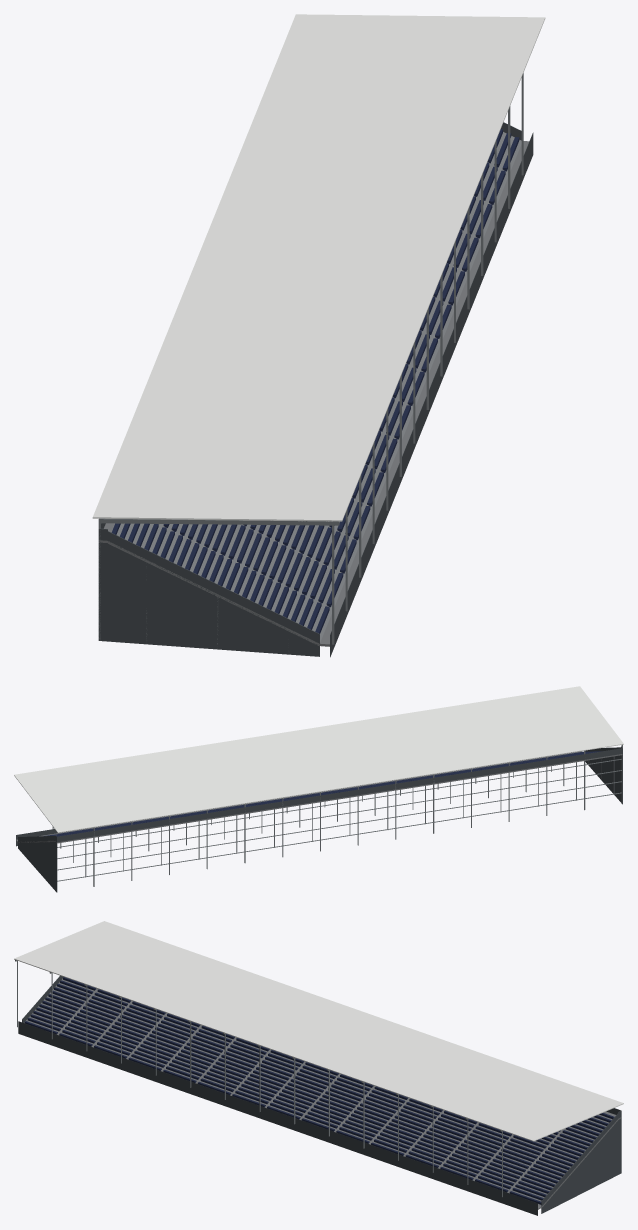
File: sil_stand_hamilton_a.glb
3 views of the same model, one above another, from view 1: azimuth 30°, elevation 25°; view 2: azimuth 150°, elevation 25°; view 3: azimuth 270°, elevation 25° (orthographic). The views are drawn at different scales.
Visible parts, largest first — view 1: silverstone-hamilton-a; view 2: silverstone-hamilton-a; view 3: silverstone-hamilton-a.
Part boxes in pixels (x1,y1,x2,y2): silverstone-hamilton-a: [92, 14, 545, 657]; silverstone-hamilton-a: [14, 686, 623, 892]; silverstone-hamilton-a: [14, 921, 623, 1215].
Size of the model in its own units: 93.47 by 14.76 by 106.
